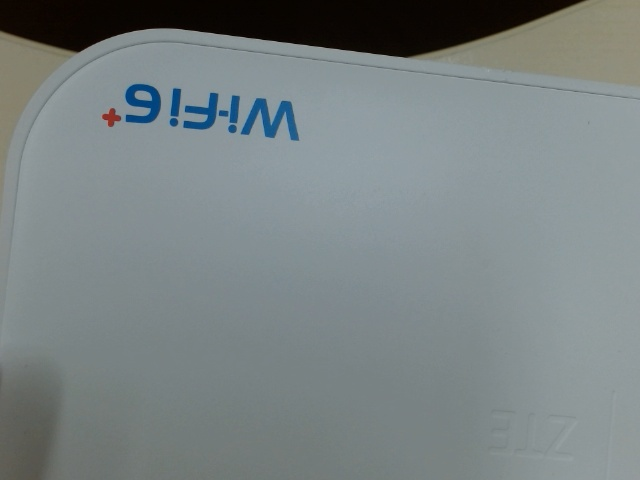AJ_ZTEWIFI6Plus: (93, 78, 312, 148)
